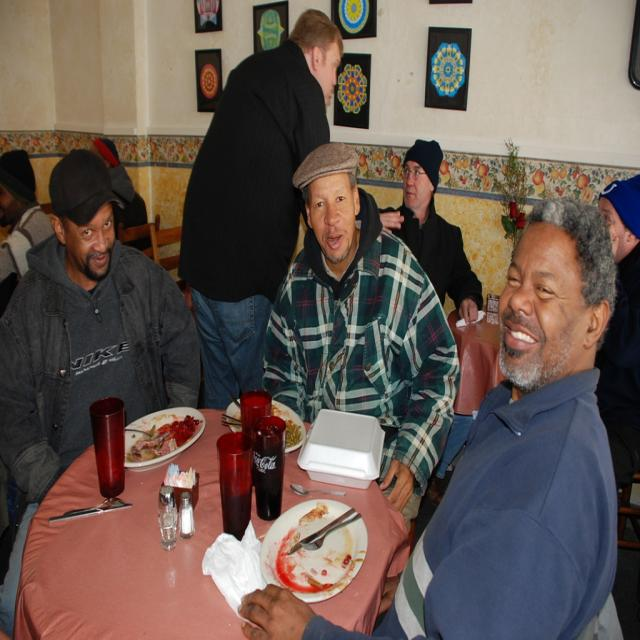non-organic waste: (264, 473, 364, 622), (121, 385, 230, 491)
